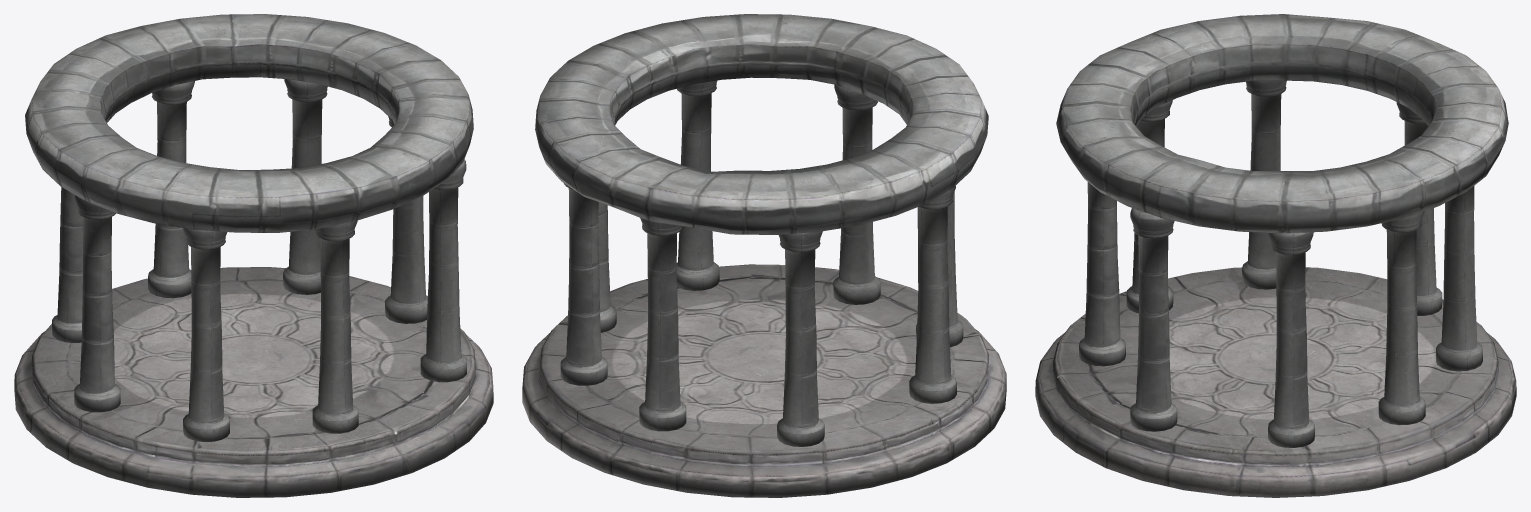
The picture shows the model from 3 angles, left to right: view 1: azimuth 30°, elevation 25°; view 2: azimuth 150°, elevation 25°; view 3: azimuth 270°, elevation 25°; orthographic projection.
Visible parts, largest first — view 1: LP, LP upper, lp col.001; view 2: LP, LP upper, lp col.001; view 3: LP, LP upper, lp col.001.
Part boxes in pixels (x1,y1,x2,y2): LP: [14, 267, 493, 497]; LP upper: [25, 14, 473, 232]; lp col.001: [52, 79, 466, 441]; LP: [522, 264, 1006, 497]; LP upper: [535, 14, 988, 234]; lp col.001: [560, 80, 963, 446]; LP: [1035, 267, 1516, 497]; LP upper: [1056, 14, 1508, 233]; lp col.001: [1079, 80, 1482, 447].
Size of the model in its own units: 13.97 by 9.4 by 13.97.
3 materials, 3 textured.
